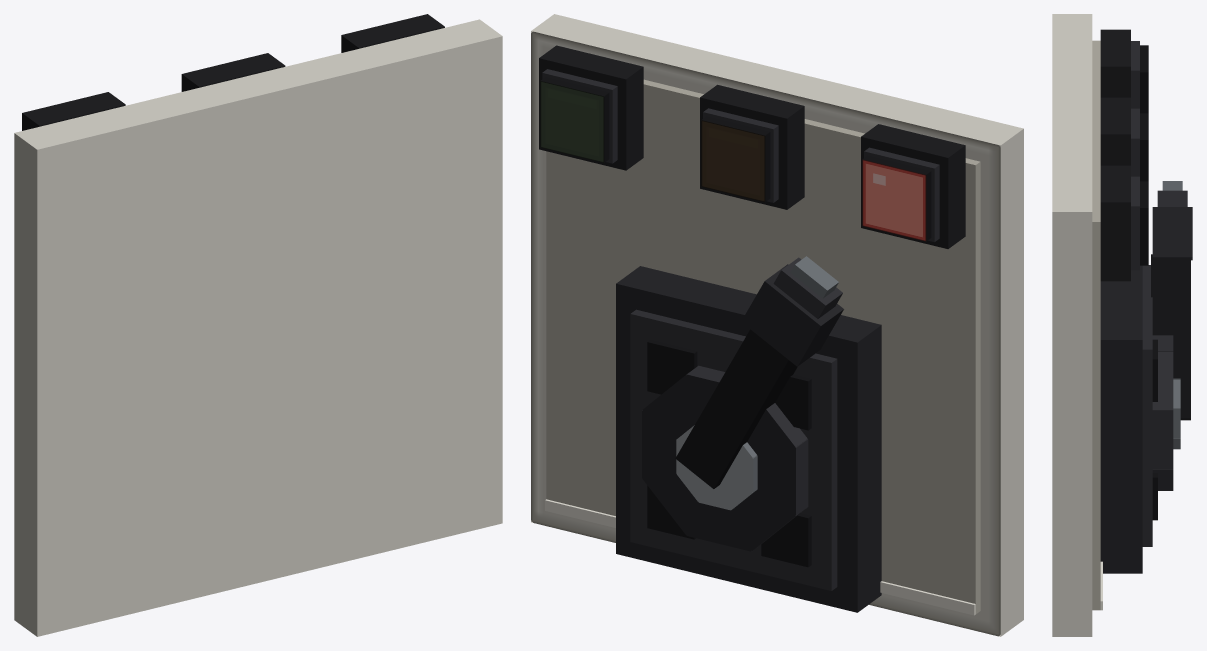
File: lever_switch3_red.obj
3 views of the same model, side by side, from view 1: azimuth 30°, elevation 25°; view 2: azimuth 150°, elevation 25°; view 3: azimuth 270°, elevation 25° (orthographic). The views are drawn at different scales.
Visible parts, largest first — view 1: Panel, LampOrange, LampGreen, LampRed; view 2: Panel, Base, Lever, LampOrange, LampGreen, LampRed; view 3: Panel, Base, Lever, LampGreen, LampOrange, LampRed.
Boxes of the visible parts, box(x1,y1,x2,y2) form: Panel: box(14, 19, 502, 636); LampOrange: box(181, 53, 285, 91); LampGreen: box(341, 14, 444, 52); LampRed: box(22, 92, 125, 130); Panel: box(531, 14, 1023, 636); Base: box(616, 266, 881, 612); Lever: box(675, 256, 843, 488); LampOrange: box(700, 84, 804, 209); LampGreen: box(539, 45, 643, 170); LampRed: box(861, 124, 965, 248); Panel: box(1052, 14, 1102, 636); Base: box(1100, 265, 1180, 573); Lever: box(1151, 181, 1192, 420); LampGreen: box(1100, 165, 1148, 281); LampOrange: box(1100, 97, 1148, 181); LampRed: box(1100, 29, 1148, 113).
Size of the model in its own units: 0.875 by 0.875 by 0.2625.
1 material, 1 textured.
